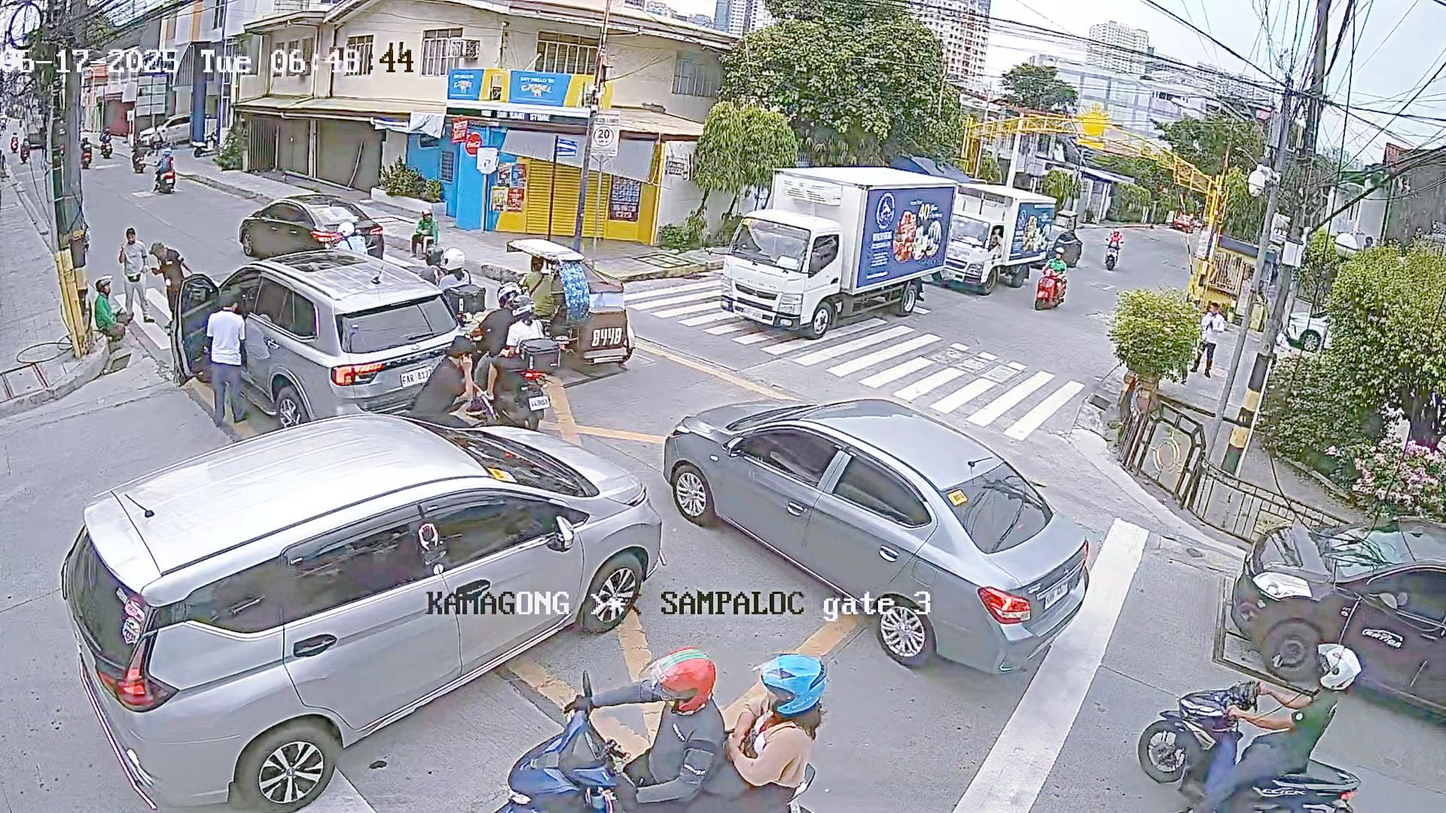Car: (36, 404, 670, 811), (651, 369, 1136, 733), (1193, 431, 1446, 708), (167, 259, 460, 409), (696, 157, 944, 332), (933, 146, 1056, 283), (221, 193, 394, 267)
Motor: (536, 603, 907, 813), (1136, 615, 1430, 813), (440, 283, 575, 440), (997, 239, 1106, 324), (129, 129, 200, 199), (1103, 217, 1139, 265)
